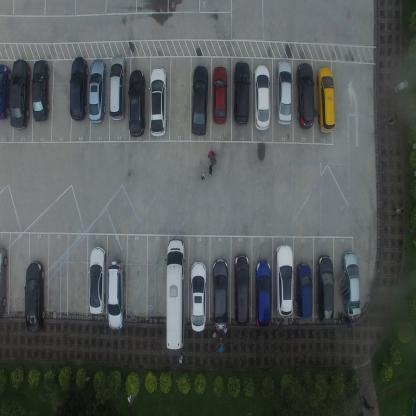car: (165, 236, 186, 350), (9, 59, 31, 129), (25, 259, 45, 334), (148, 65, 167, 138), (107, 259, 126, 331), (295, 62, 315, 130), (316, 66, 336, 133), (316, 253, 334, 327), (275, 243, 293, 317), (88, 245, 107, 315), (342, 252, 362, 318), (191, 64, 209, 136), (69, 55, 88, 122), (108, 52, 126, 122), (211, 258, 228, 332), (31, 57, 50, 123), (254, 259, 272, 328), (88, 58, 106, 125), (128, 68, 145, 138), (253, 64, 271, 130), (233, 253, 249, 327), (190, 260, 206, 332), (233, 60, 250, 127), (275, 60, 292, 127), (294, 261, 312, 319), (211, 66, 228, 125), (0, 63, 12, 121), (0, 245, 8, 318)
